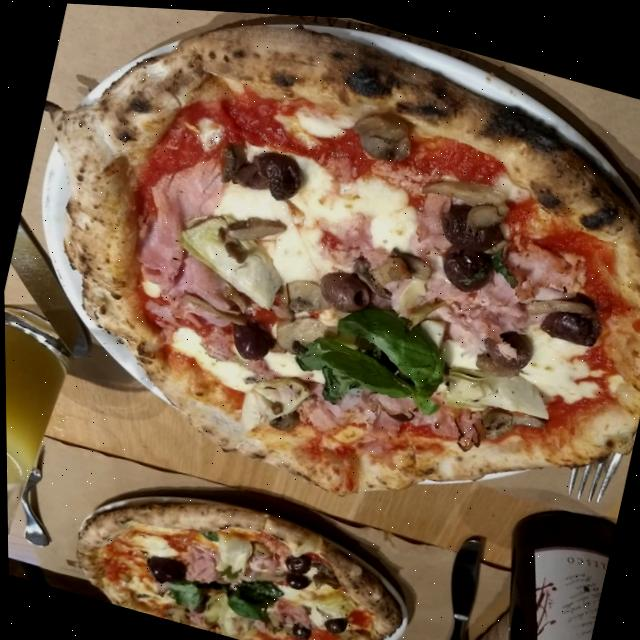basil: (286, 325, 444, 412), (323, 293, 453, 394), (233, 571, 283, 608), (161, 574, 204, 612), (221, 591, 264, 620), (192, 523, 218, 539)
black_olives: (434, 191, 509, 255), (243, 141, 305, 203), (436, 236, 495, 293), (312, 260, 373, 313), (536, 295, 602, 343), (478, 316, 535, 369), (224, 314, 273, 362), (142, 551, 186, 585), (278, 546, 311, 573), (281, 567, 311, 589), (319, 608, 345, 632), (288, 618, 310, 637)
mushrooms: (345, 238, 417, 302), (267, 302, 328, 358), (273, 270, 335, 317), (349, 100, 409, 143), (353, 122, 413, 162), (265, 401, 299, 432)
pizza: (0, 0, 640, 569), (60, 458, 418, 640)
